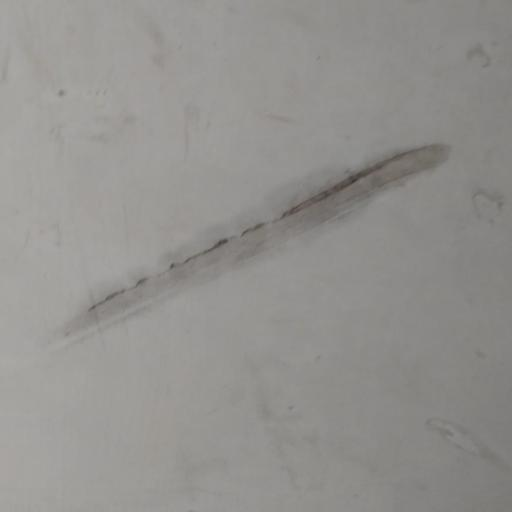stain: (56, 125, 496, 401), (408, 402, 512, 482), (455, 37, 512, 89)
